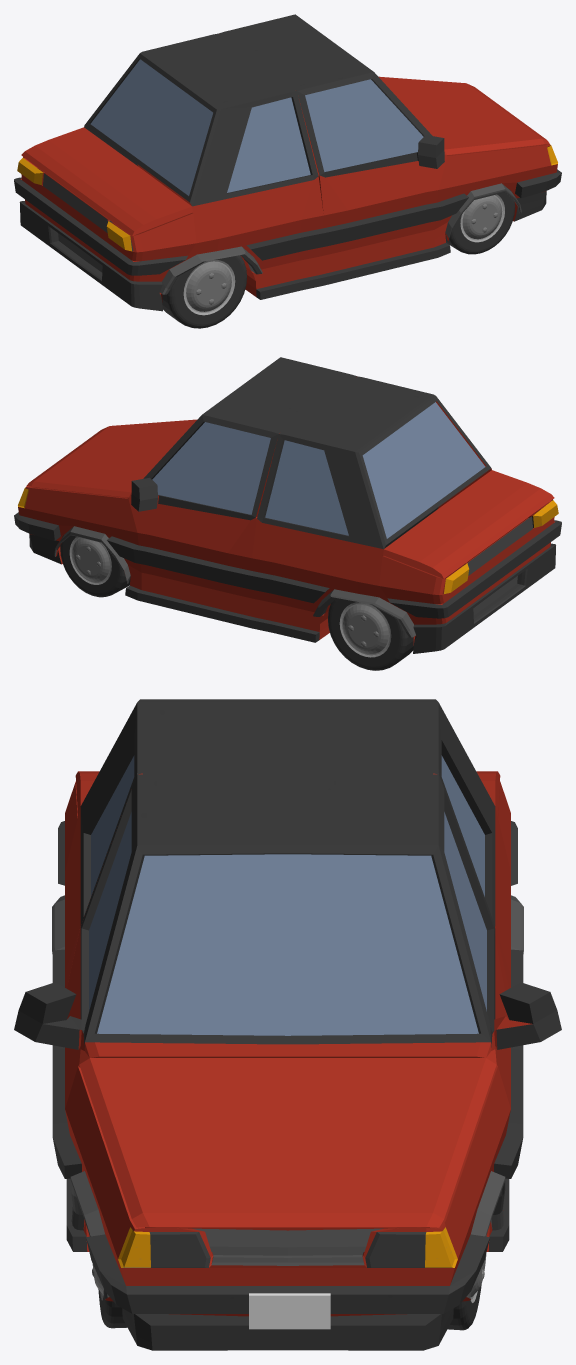
Rendered from Reanult_9 1.fbx.
3 renders of one model, top to bottom at view 1: azimuth 30°, elevation 25°; view 2: azimuth 150°, elevation 25°; view 3: azimuth 270°, elevation 25°, orthographic. The views are drawn at different scales.
Parts seen in each view (by area): view 1: Cube, Cylinder.005, Cylinder.002; view 2: Cube, Cylinder.001, Cylinder.003; view 3: Cube, Cube.001, Cylinder.003, Cylinder.002.
Boxes of the visible parts, x1,y1,x2,y2 form: Cube: (14,14,561,311); Cylinder.005: (162,255,246,328); Cylinder.002: (445,189,514,254); Cube: (14,357,561,653); Cylinder.001: (328,598,413,670); Cylinder.003: (60,535,130,597); Cube: (14,699,561,1350); Cube.001: (249,1293,330,1329); Cylinder.003: (448,1235,486,1330); Cylinder.002: (92,1264,127,1328).
Size of the model in its own units: 12.22 by 5.18 by 6.69.
